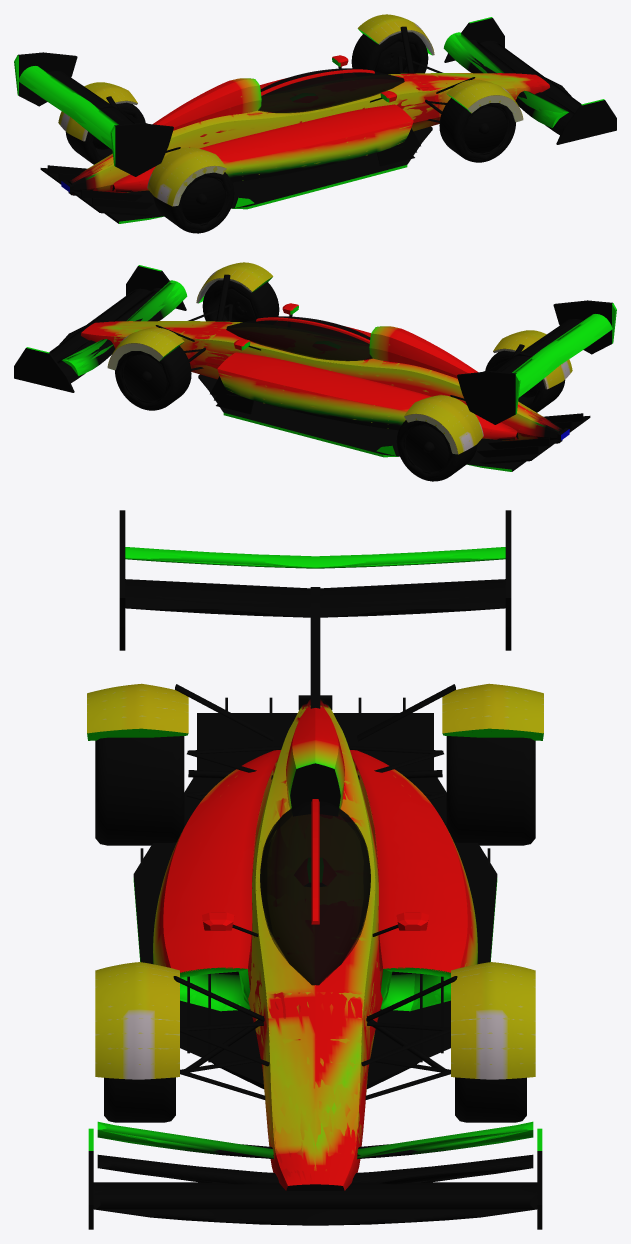
File: peregrine.glb
3 views of the same model, one above another, from view 1: azimuth 30°, elevation 25°; view 2: azimuth 150°, elevation 25°; view 3: azimuth 270°, elevation 25° (orthographic). The views are drawn at different scales.
Parts seen in each view (by area): view 1: body_L0, body_L2, glass_L0, glass_L1, body_L1, wheel_RR_L2, wheel_FR_L2, wheel_FL_L0, wheel_FR_L0, glass_L2, wheel_RR_L0, wheel_RL_L0 (+6 smaller); view 2: body_L0, body_L2, glass_L0, glass_L1, body_L1, wheel_RL_L2, wheel_FL_L2, wheel_FR_L0, wheel_FL_L0, glass_L2, wheel_RL_L0, wheel_RR_L0 (+5 smaller); view 3: body_L0, body_L2, body_L1, glass_L0, glass_L1, wheel_RR_L0, wheel_RL_L0, wheel_FR_L0, wheel_FL_L0.
Boxes of the visible parts, x1,y1,x2,y2 form: body_L0: (14, 14, 616, 223); body_L2: (20, 21, 581, 205); glass_L0: (258, 68, 404, 113); glass_L1: (259, 69, 404, 112); body_L1: (57, 14, 571, 206); wheel_RR_L2: (177, 173, 232, 230); wheel_FR_L2: (458, 103, 514, 159); wheel_FL_L0: (351, 32, 428, 74); wheel_FR_L0: (439, 98, 515, 162); glass_L2: (261, 69, 402, 102); wheel_RR_L0: (153, 172, 234, 233); wheel_RL_L0: (65, 102, 145, 164); body_L0: (14, 262, 616, 471); body_L2: (49, 269, 610, 454); glass_L0: (226, 316, 372, 361); glass_L1: (226, 317, 371, 360); body_L1: (59, 262, 569, 452); wheel_RL_L2: (398, 421, 453, 478); wheel_FL_L2: (116, 351, 172, 407); wheel_FR_L0: (202, 280, 279, 322); wheel_FL_L0: (115, 346, 191, 410); glass_L2: (228, 317, 369, 350); wheel_RL_L0: (396, 420, 477, 481); wheel_RR_L0: (485, 350, 565, 412); body_L0: (87, 510, 543, 1229); body_L2: (94, 549, 536, 1209); body_L1: (87, 559, 543, 1225); glass_L0: (260, 801, 370, 985); glass_L1: (260, 802, 370, 984); wheel_RR_L0: (95, 736, 184, 845); wheel_RL_L0: (446, 736, 535, 845); wheel_FR_L0: (104, 1077, 175, 1122); wheel_FL_L0: (455, 1077, 526, 1122).
Size of the model in its own units: 5.45 by 1.29 by 2.16.
